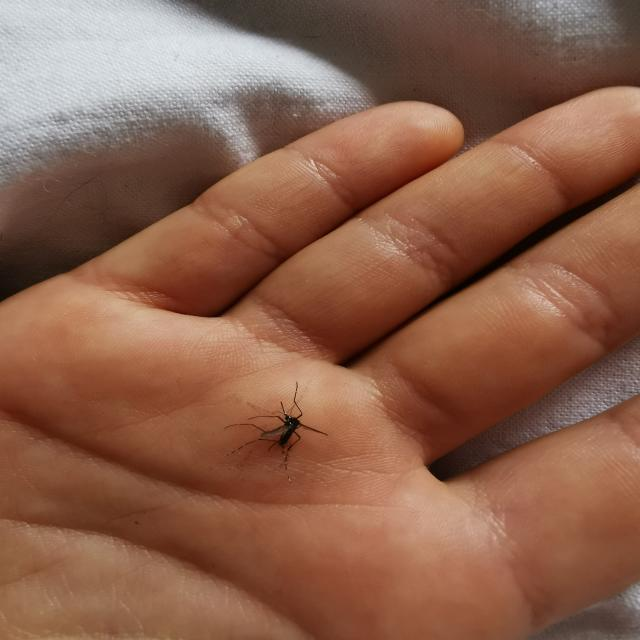albopictus: (223, 377, 334, 484)
